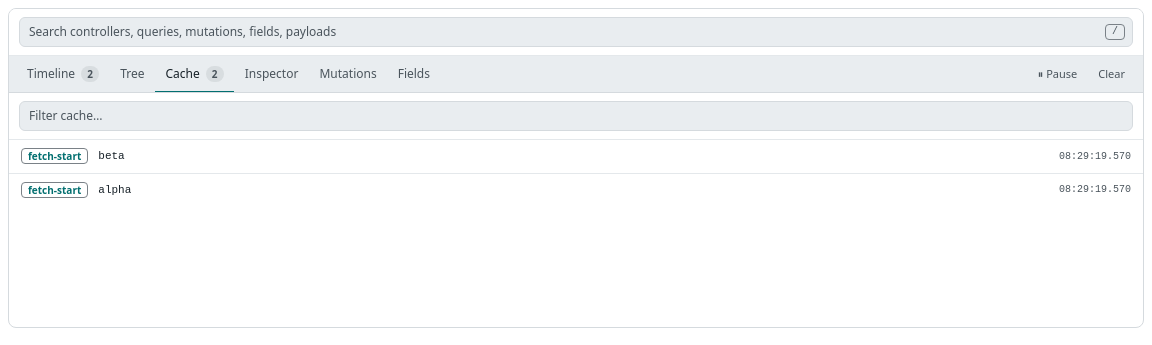
Test: Filter input › placeholder names the tab; the clear button empties the filter and disappears
This screenshot has width=1152, height=345.
Step 1. Type "alpha" into the search field → coordinates (576, 116), box x1=19 y1=101 x2=1133 y2=131
Wait 150 ms
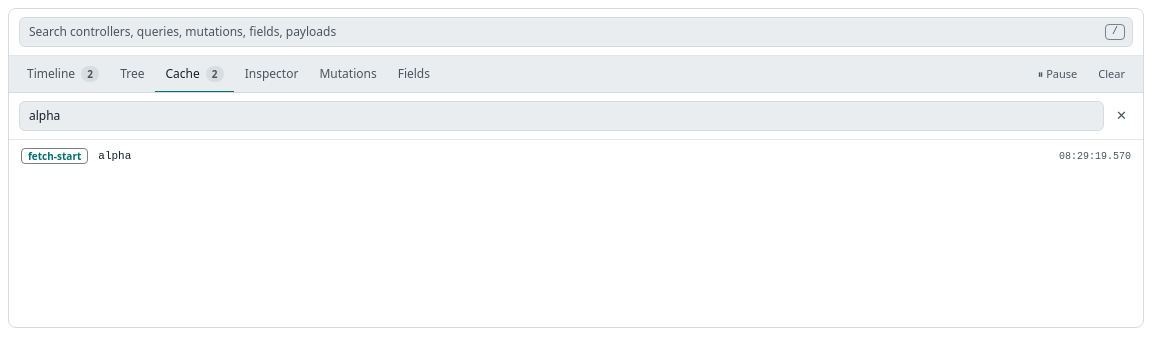
Step 2. Click the button named "Clear filter" → coordinates (1122, 116), box x1=1110 y1=104 x2=1133 y2=128
Wait 150 ms
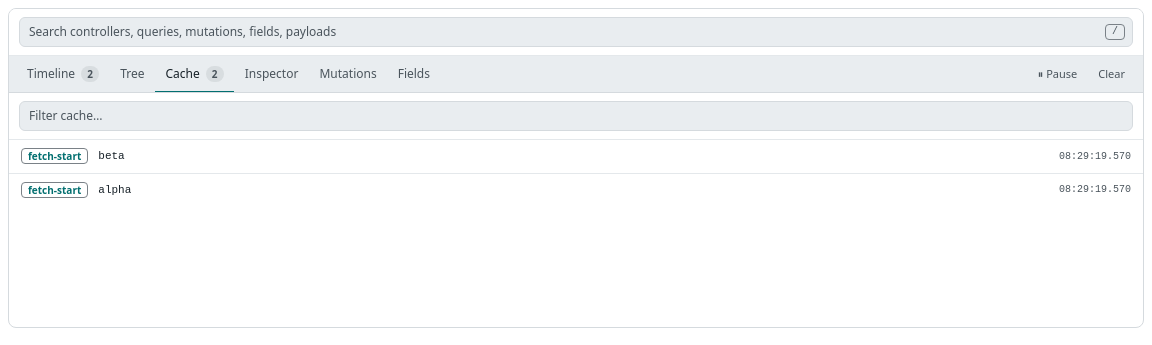
Expected: the search field is empty, x1=19 y1=101 x2=1133 y2=131
